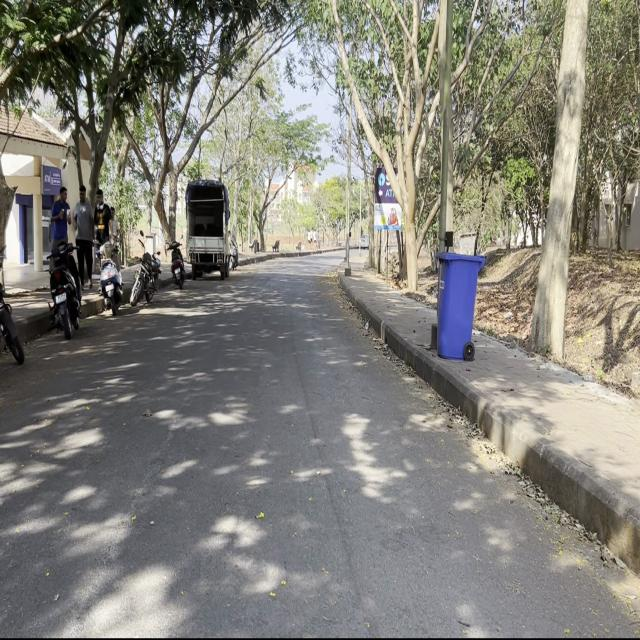Object: (184, 171, 234, 282), (40, 232, 85, 334), (92, 238, 126, 322), (133, 241, 163, 307)
Road: (2, 255, 634, 633)
